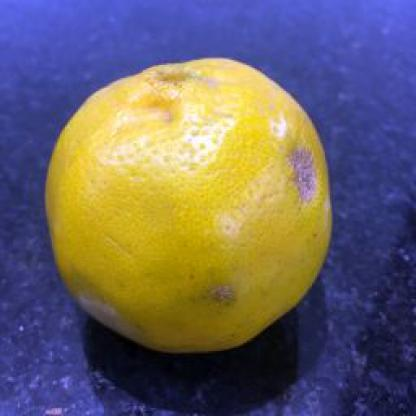orange_rotten: (37, 57, 335, 353)
